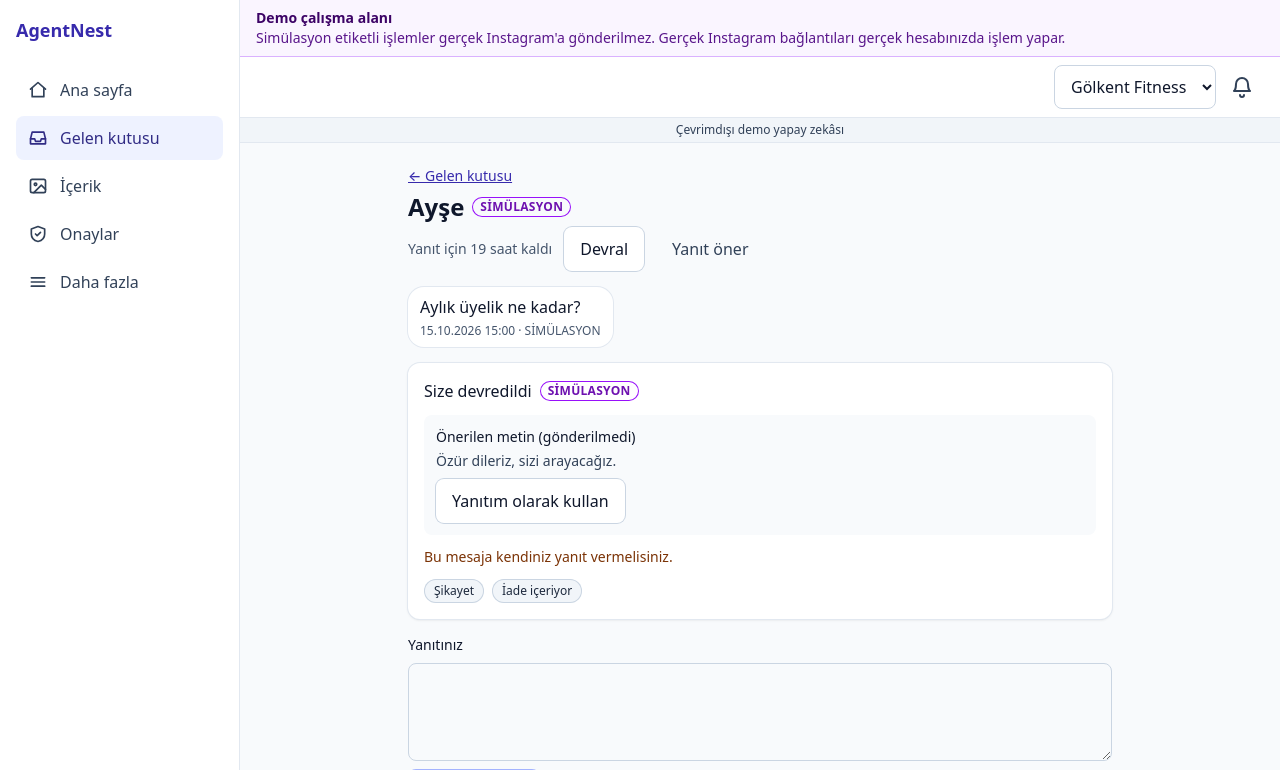
Scenario: inbox › hands a complaint to you: no sendable text, the suggestion can seed your reply
Expected: the text "Bu mesaja kendiniz yanıt vermelisiniz." is shown, [424,547,673,566]
Expected: the list item "Şikayet" is shown, [424,579,484,603]
Click the button "Yanıtım olarak kullan" at (530, 501), box [436,479,625,523]
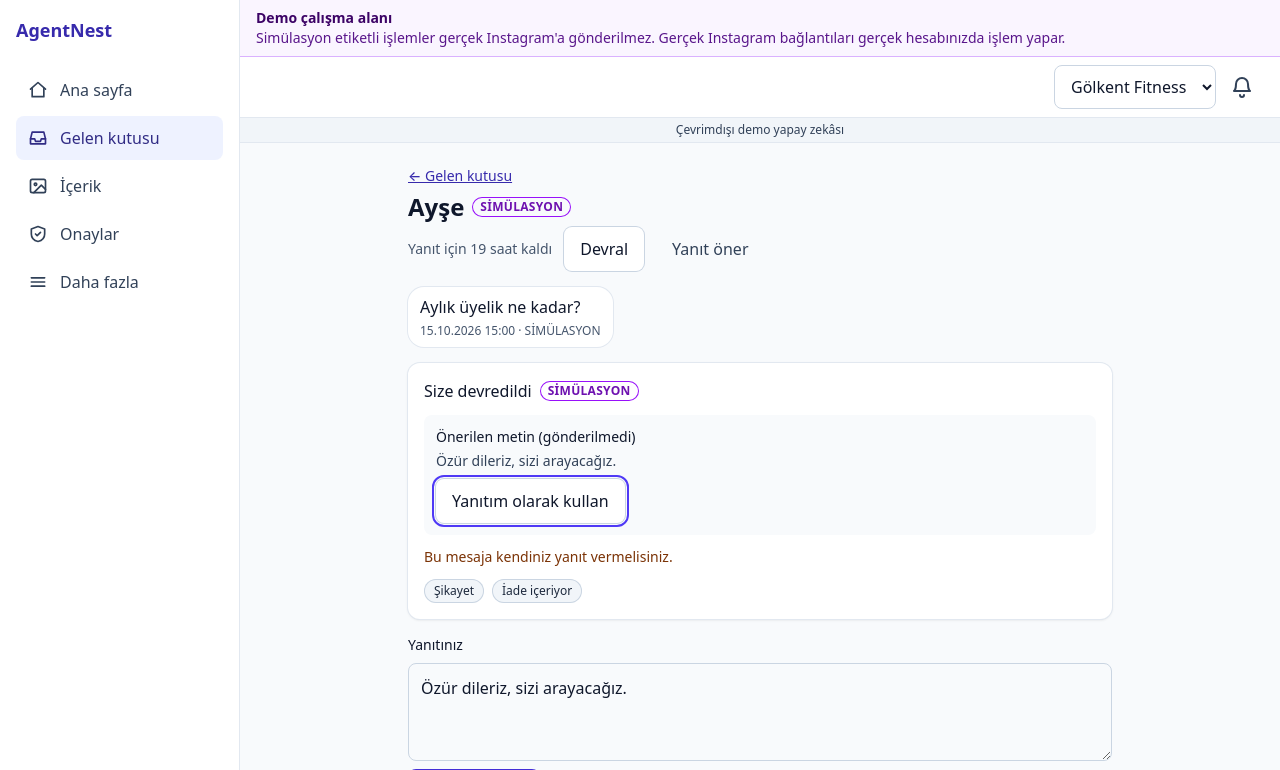
Expected: the text box labelled "Yanıtınız" holds "Özür dileriz, sizi arayacağız.", [408,663,1112,761]
